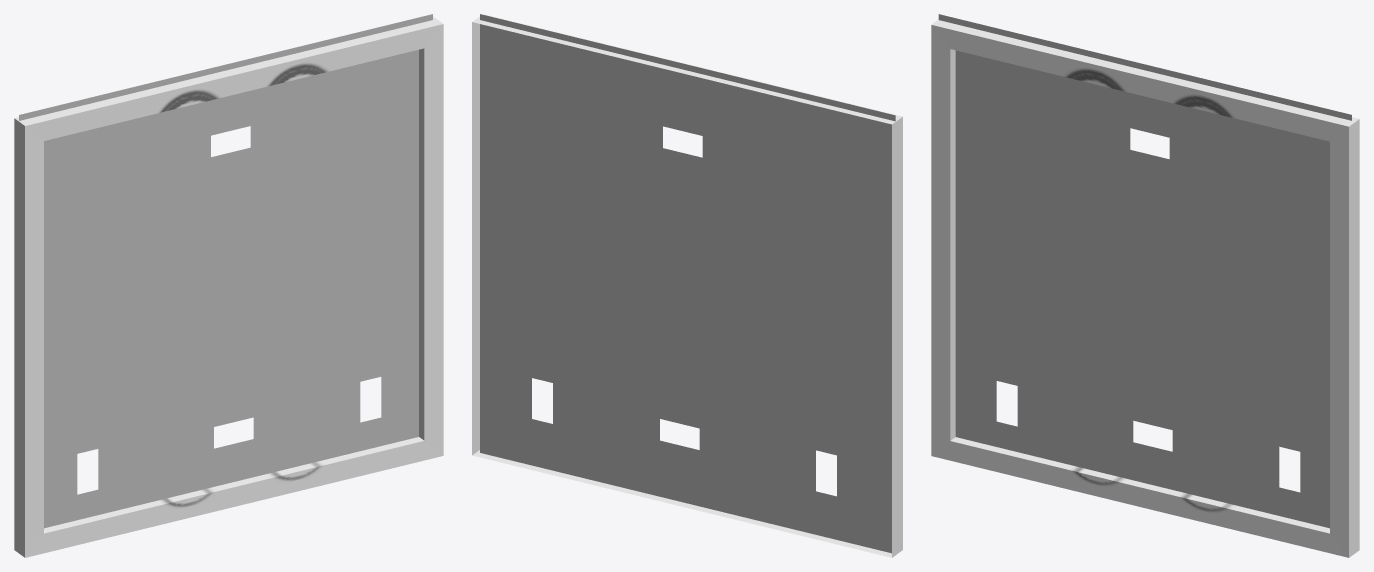
The model's file is floor180x180c_wtf.obj.
3 views of the same model, side by side, from view 1: azimuth 30°, elevation 25°; view 2: azimuth 150°, elevation 25°; view 3: azimuth 330°, elevation 25° (orthographic).
Parts seen in each view (by area): view 1: group3, group2; view 2: group3, group2; view 3: group3, group2.
Part boxes in pixels (box(x1,y1,x2,y2)): group3: box(19, 14, 432, 528); group2: box(14, 16, 443, 557); group3: box(480, 14, 895, 553); group2: box(472, 14, 902, 557); group3: box(938, 14, 1351, 528); group2: box(931, 19, 1359, 557).
Size of the model in its own units: 660 by 660 by 29.33.
